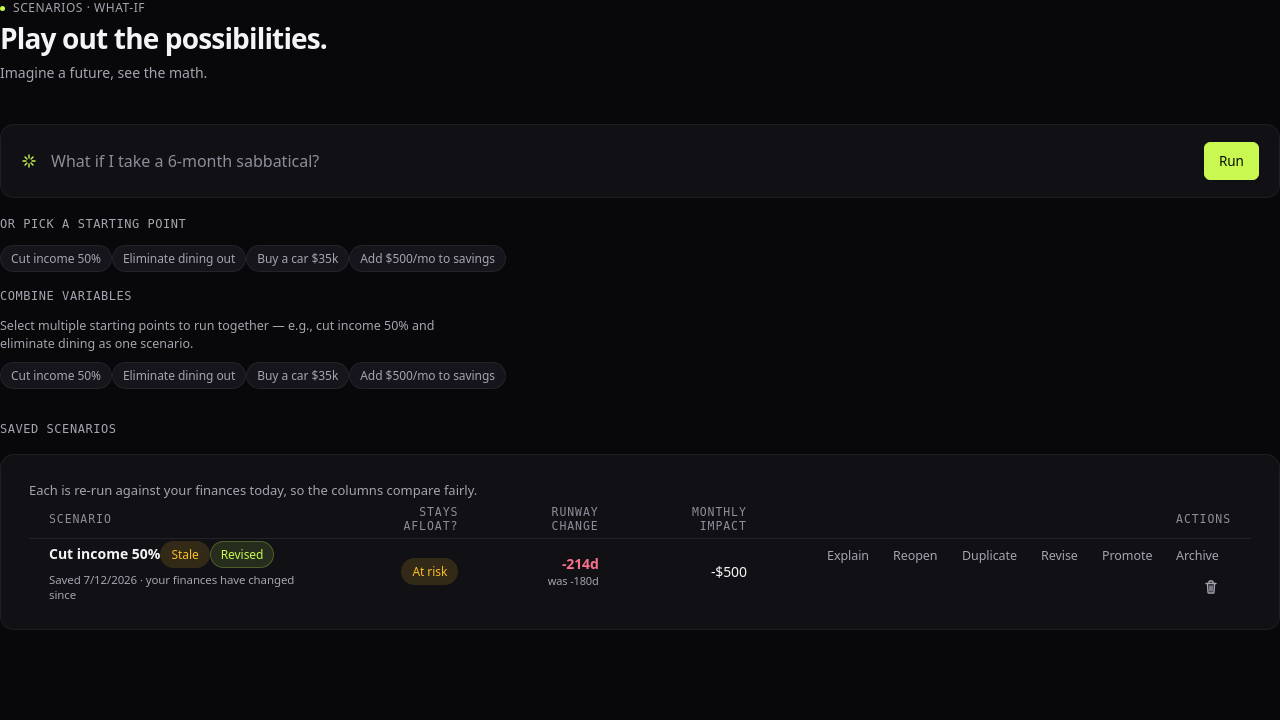
Test case: Scenarios screen › marks a scenario that carries a revision and shows the revised-vs-original comparison
Expected: the text "Revised" is shown, [210,541,274,568]
Click the button "Revise".
click(1059, 555)  # box [1029,539,1090,571]
(page scrolled)
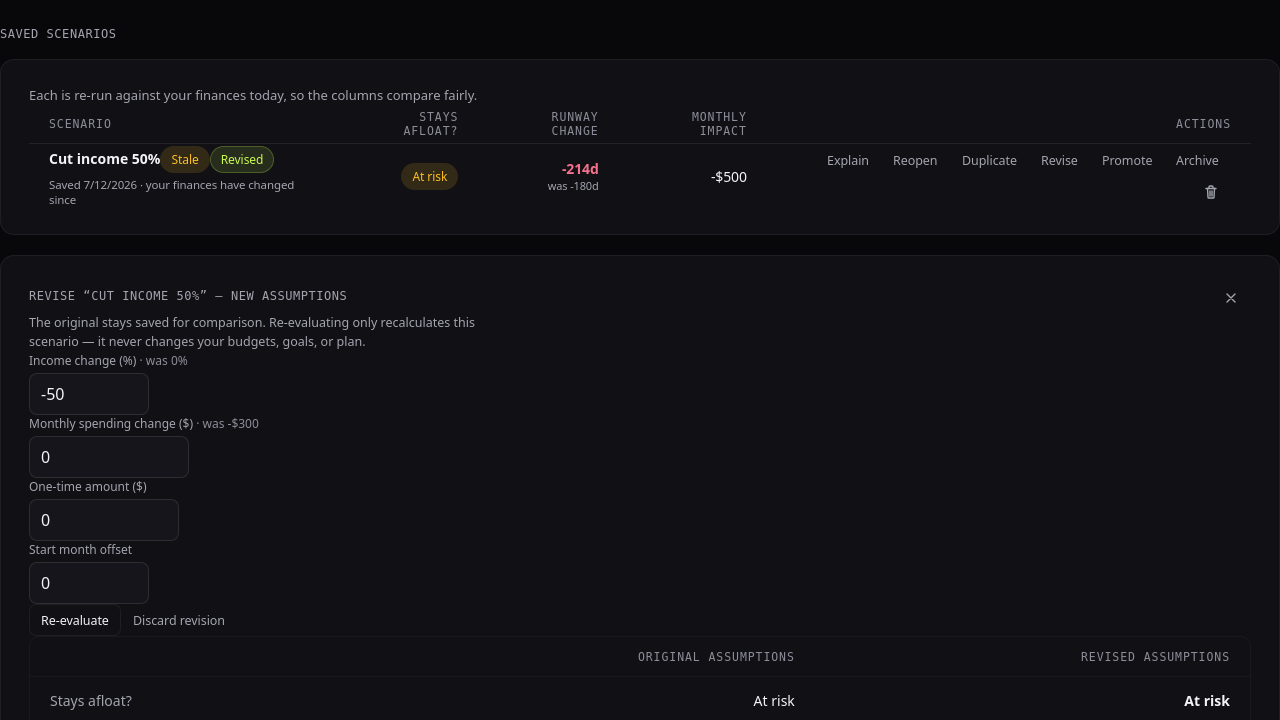
Now the button "Discard revision" is shown, box [121,604,237,636]
Now the text "· was 0%" is shown, box [136,352,188,369]
